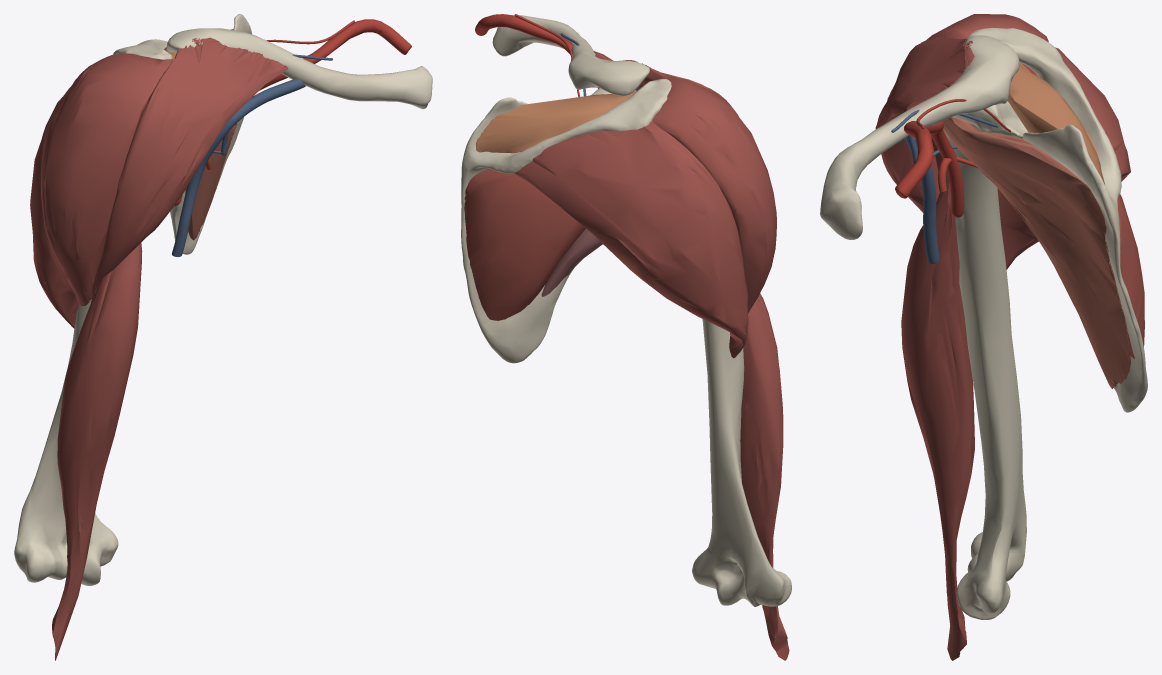
3 views of the same model, side by side, from view 1: azimuth 30°, elevation 25°; view 2: azimuth 150°, elevation 25°; view 3: azimuth 270°, elevation 25° (orthographic). The views are drawn at different scales.
Parts seen in each view (by area): view 1: FJ1468, FJ1467, FJ1478, FJ3368, FJ3362, FJ1513, FJ2269, FJ3384, FJ1504, FJ3579; view 2: FJ1513, FJ3368, FJ1500, FJ1467, FJ3384, FJ1478, FJ1506, FJ3362, FJ1508, FJ3579, FJ1468; view 3: FJ3368, FJ1478, FJ1504, FJ3384, FJ3362, FJ1468, FJ1506, FJ1513, FJ1500, FJ1467, FJ3579, FJ2268 (+1 smaller).
Part boxes in pixels (left/top/right/bottom): FJ1468: left=91, top=37, right=288, bottom=301; FJ1467: left=41, top=53, right=173, bottom=305; FJ1478: left=52, top=243, right=142, bottom=660; FJ3368: left=14, top=299, right=118, bottom=585; FJ3362: left=166, top=28, right=432, bottom=109; FJ1513: left=30, top=54, right=112, bottom=328; FJ2269: left=172, top=79, right=305, bottom=256; FJ3384: left=113, top=14, right=251, bottom=254; FJ1504: left=185, top=121, right=238, bottom=240; FJ3579: left=303, top=19, right=411, bottom=63; FJ1513: left=514, top=120, right=748, bottom=358; FJ3368: left=692, top=319, right=791, bottom=606; FJ1500: left=464, top=168, right=585, bottom=320; FJ1467: left=652, top=77, right=776, bottom=312; FJ3384: left=461, top=78, right=671, bottom=363; FJ1478: left=740, top=293, right=789, bottom=660; FJ1506: left=476, top=92, right=635, bottom=153; FJ3362: left=492, top=15, right=649, bottom=95; FJ1508: left=541, top=229, right=602, bottom=296; FJ3579: left=475, top=14, right=573, bottom=54; FJ1468: left=593, top=50, right=738, bottom=116; FJ3368: left=944, top=131, right=1026, bottom=619; FJ1478: left=901, top=158, right=974, bottom=660; FJ1504: left=943, top=117, right=1130, bottom=388; FJ3384: left=953, top=27, right=1147, bottom=412; FJ3362: left=820, top=35, right=1019, bottom=239; FJ1468: left=875, top=36, right=974, bottom=212; FJ1506: left=1007, top=62, right=1104, bottom=184; FJ1513: left=997, top=47, right=1130, bottom=269; FJ1500: left=1022, top=63, right=1144, bottom=358; FJ1467: left=927, top=14, right=1048, bottom=170; FJ3579: left=895, top=121, right=933, bottom=198; FJ2268: left=926, top=121, right=964, bottom=217.
Size of the model in its own units: 2.31 by 3.61 by 1.52.
